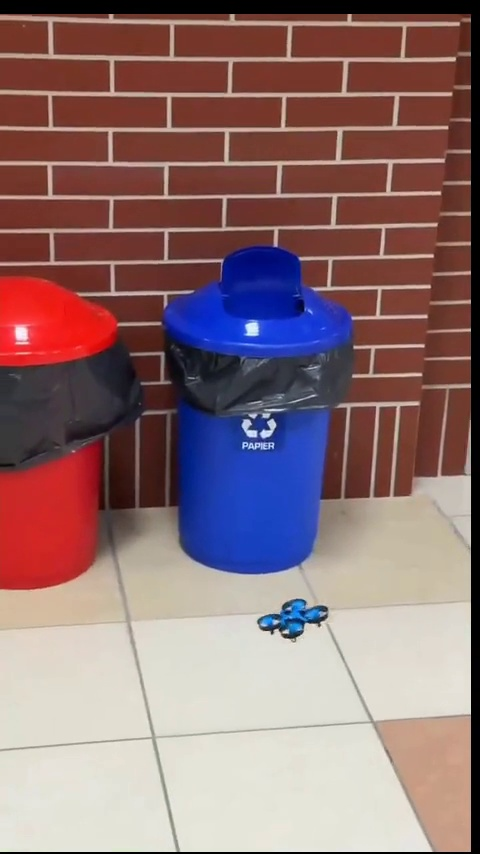drone: (257, 601, 329, 643)
